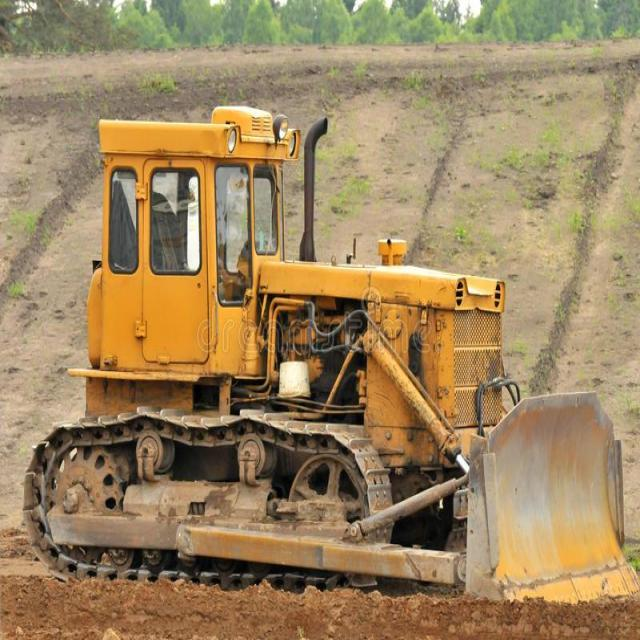Bulldozer: (21, 77, 634, 605)
